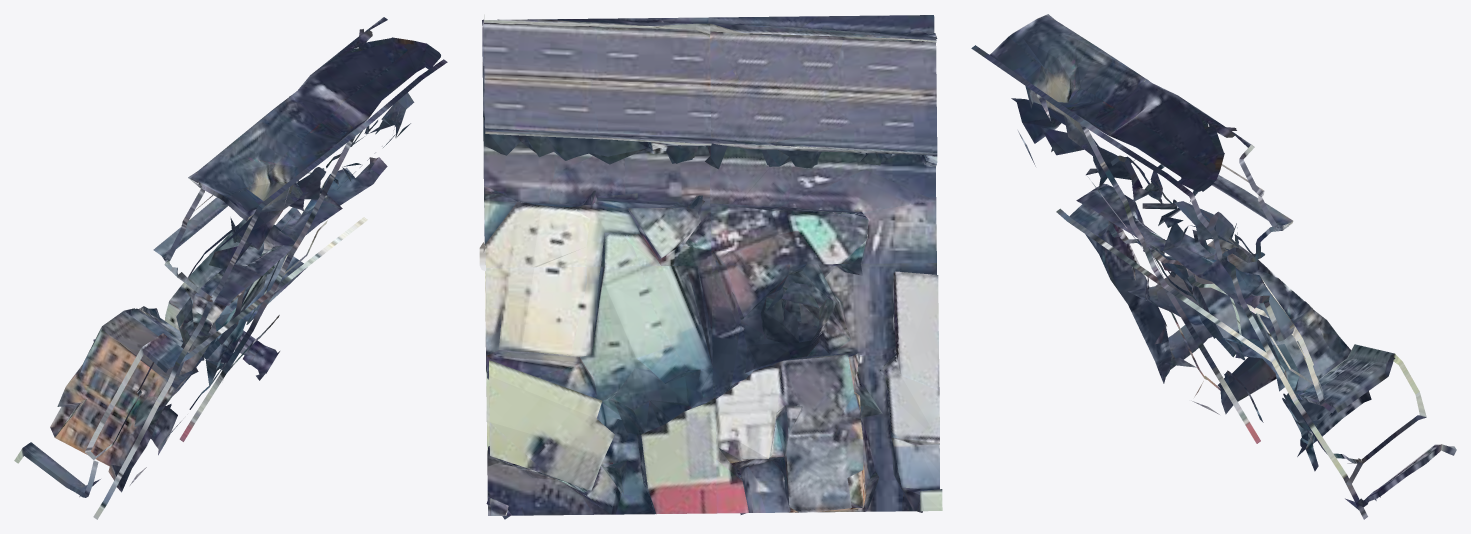
The picture shows the model from 3 angles, left to right: view 1: azimuth 30°, elevation 25°; view 2: azimuth 150°, elevation 25°; view 3: azimuth 270°, elevation 25°; orthographic projection. The views are drawn at different scales.
Size of the model in its own units: 85.2 by 75.25 by 81.21.
Materials: 1 (1 with a texture image).
